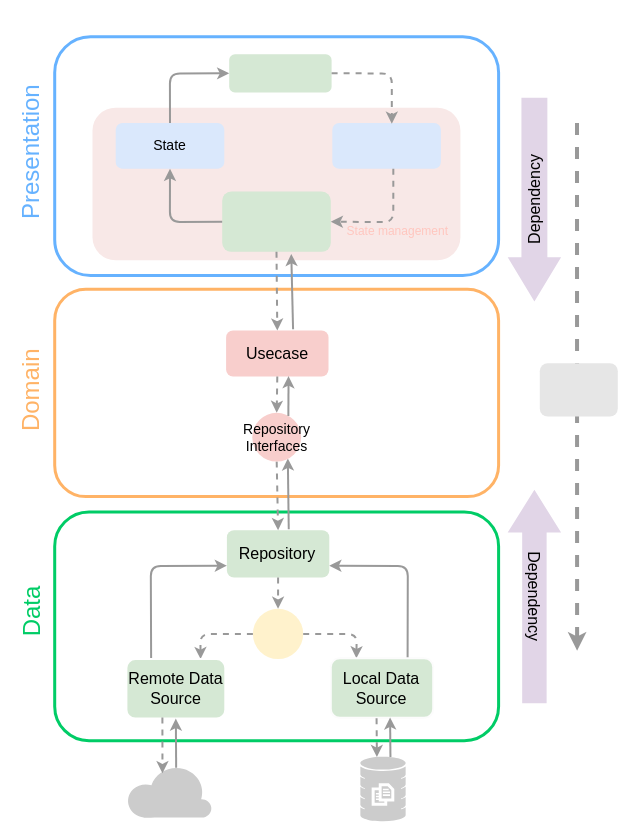
Some shapes in this 636 by 839 pixel diagram are drawn without their labels. Each missing label, with the box of its shape:
BLoC: (222, 191, 330, 251)
Call flow: (539, 363, 617, 416)
Datasource Interfaces: (252, 608, 303, 659)
Event: (332, 122, 440, 168)
View: (229, 54, 331, 92)
